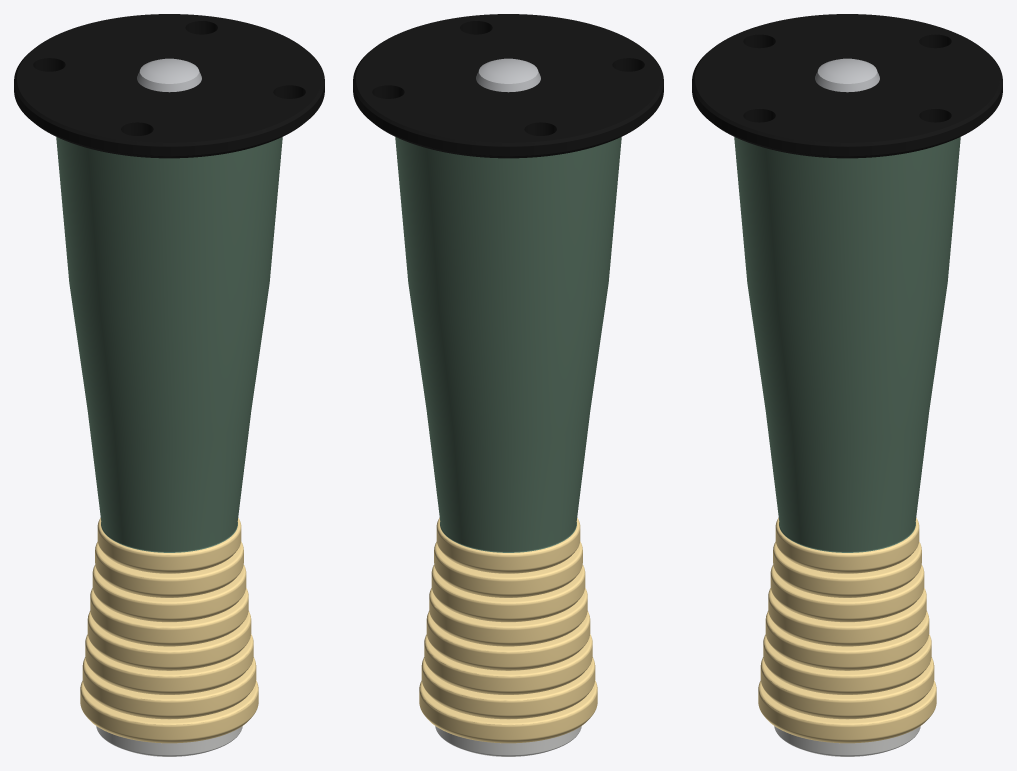
File: sofa-legs-1509.glb
3 views of the same model, side by side, from view 1: azimuth 30°, elevation 25°; view 2: azimuth 150°, elevation 25°; view 3: azimuth 270°, elevation 25° (orthographic).
Visible parts, largest first — view 1: Body, Plate, Screw; view 2: Body, Plate, Screw; view 3: Body, Plate, Screw.
Boxes of the visible parts, <box> form: Body: <box>56,137,282,756</box>; Plate: <box>14,14,324,158</box>; Screw: <box>137,58,201,92</box>; Body: <box>395,137,621,756</box>; Plate: <box>353,14,663,158</box>; Screw: <box>476,58,540,92</box>; Body: <box>734,137,960,756</box>; Plate: <box>692,14,1002,158</box>; Screw: <box>815,58,879,92</box>.
Size of the model in its own units: 0.044 by 0.1035 by 0.044.
